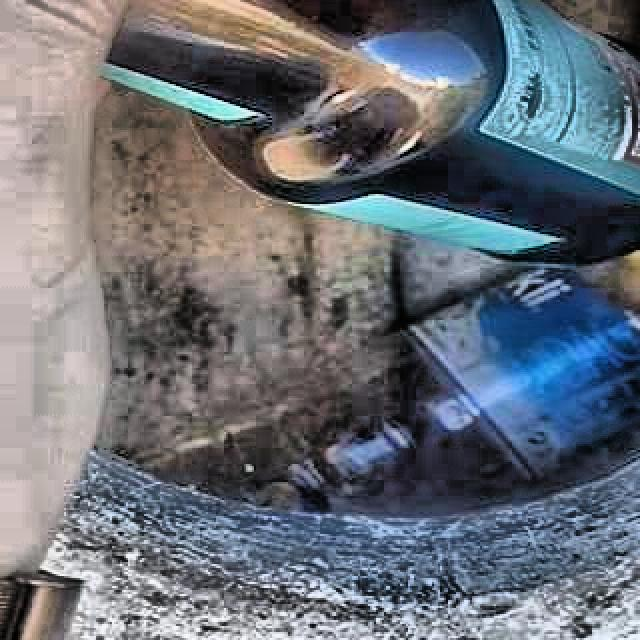glass: (107, 0, 640, 260)
